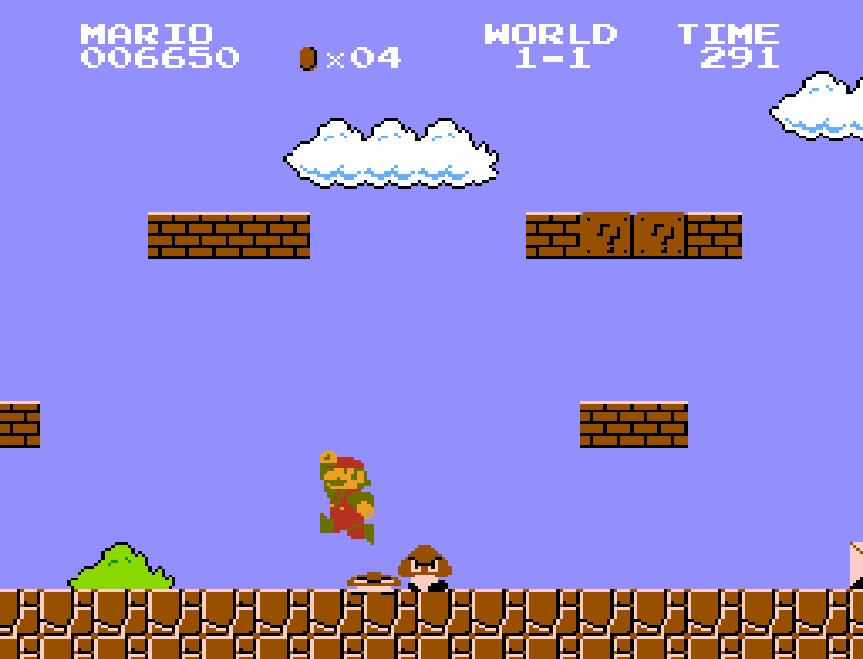big_mario: (318, 449, 376, 547)
